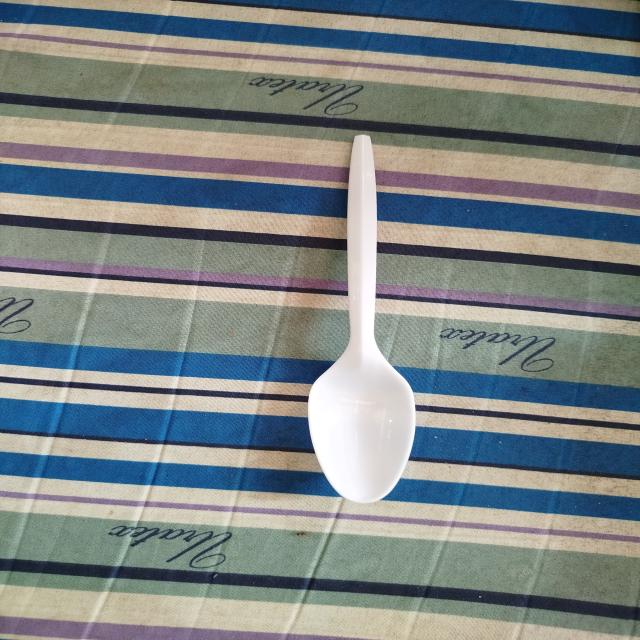plastic: (286, 117, 431, 543)
